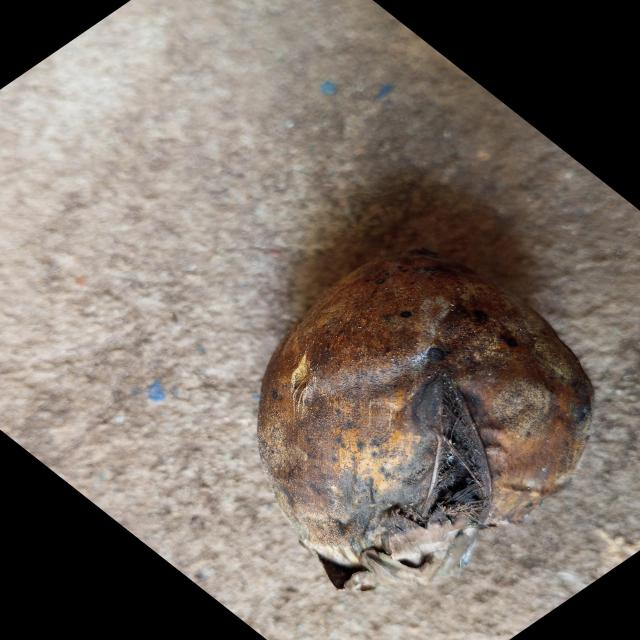damaged: (258, 250, 593, 590)
